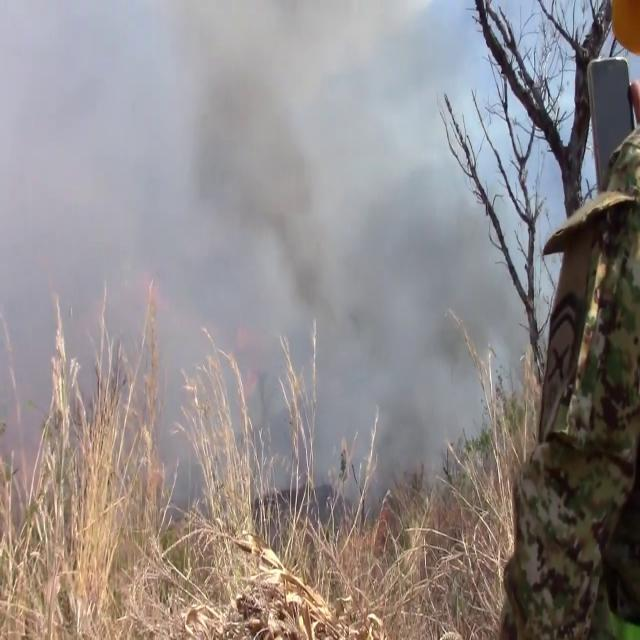Smoke: (2, 1, 560, 505)
